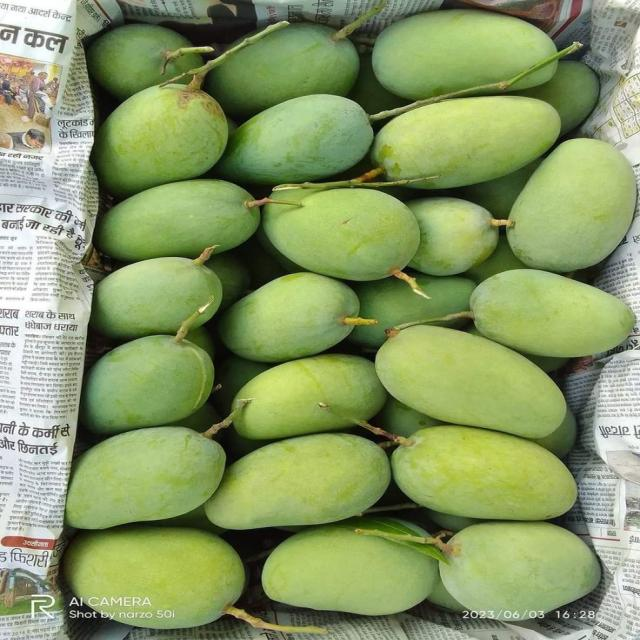mango: (376, 326, 566, 437), (63, 526, 245, 628), (206, 434, 390, 529), (392, 425, 576, 520), (372, 96, 559, 189), (507, 139, 636, 272), (262, 522, 438, 615), (373, 10, 556, 99), (66, 427, 225, 529), (440, 522, 600, 620), (92, 85, 227, 198), (205, 23, 359, 119), (471, 269, 634, 357), (215, 95, 373, 185), (263, 189, 419, 280), (94, 180, 259, 262), (80, 336, 213, 435), (234, 354, 386, 439), (219, 273, 359, 362), (90, 258, 222, 339), (348, 273, 475, 348), (87, 24, 203, 101), (407, 198, 499, 275), (514, 61, 599, 135)
